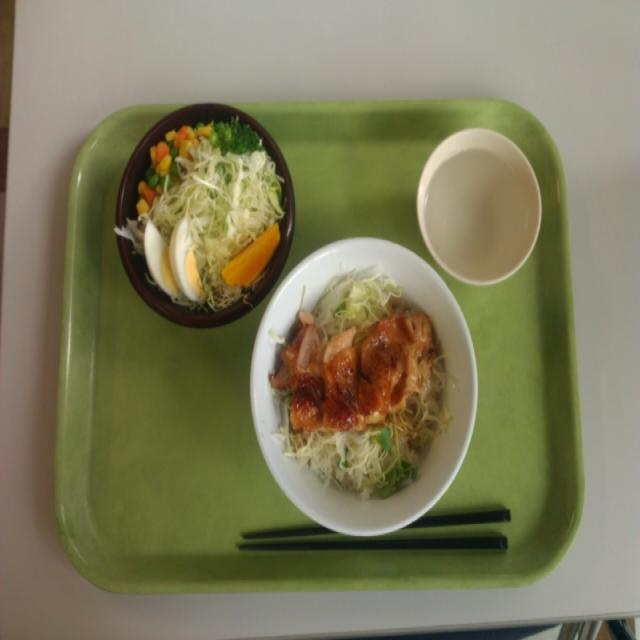Green Salad: (130, 105, 280, 296)
